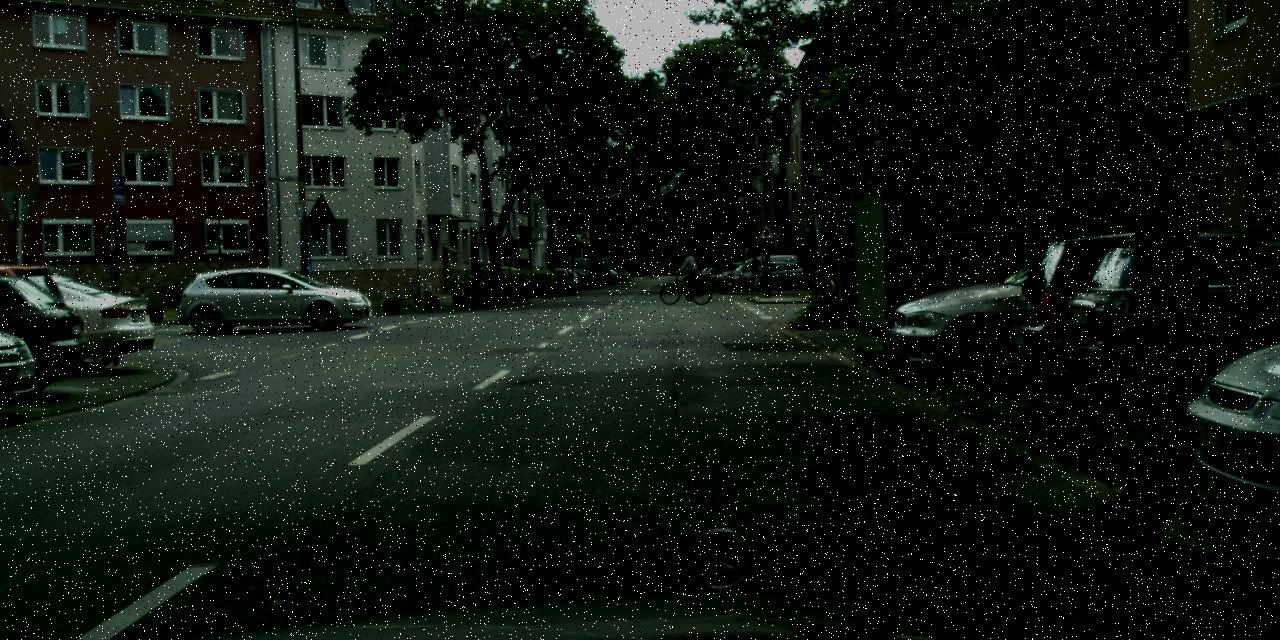ped: (680, 249, 698, 295), (506, 274, 536, 300), (466, 267, 486, 295), (748, 257, 762, 291)
